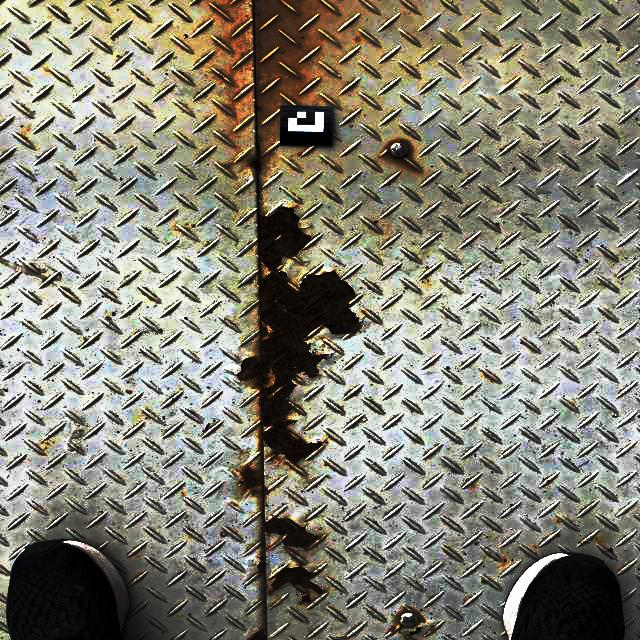Corrosion: (236, 207, 360, 464), (270, 566, 324, 603), (263, 518, 318, 548), (238, 466, 261, 493), (247, 154, 261, 172), (246, 629, 267, 640), (257, 557, 266, 575), (406, 626, 422, 636), (390, 624, 401, 633), (255, 104, 263, 113)
